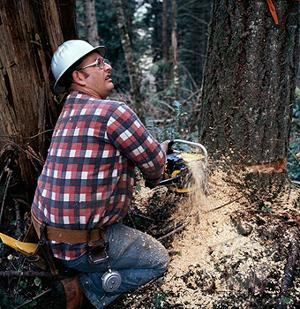person: (31, 38, 169, 309)
